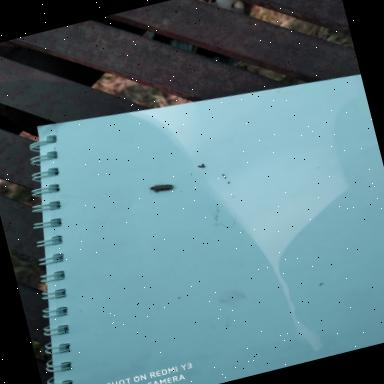pbw: (146, 178, 178, 195)
